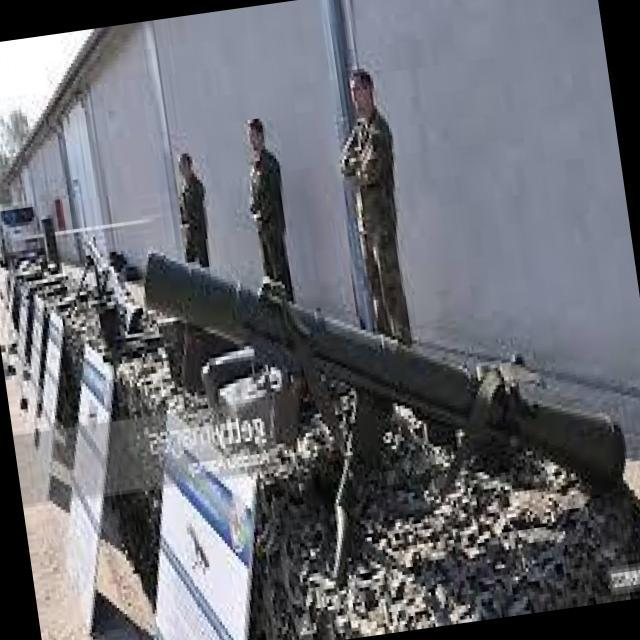rocket: (138, 190, 632, 552)
